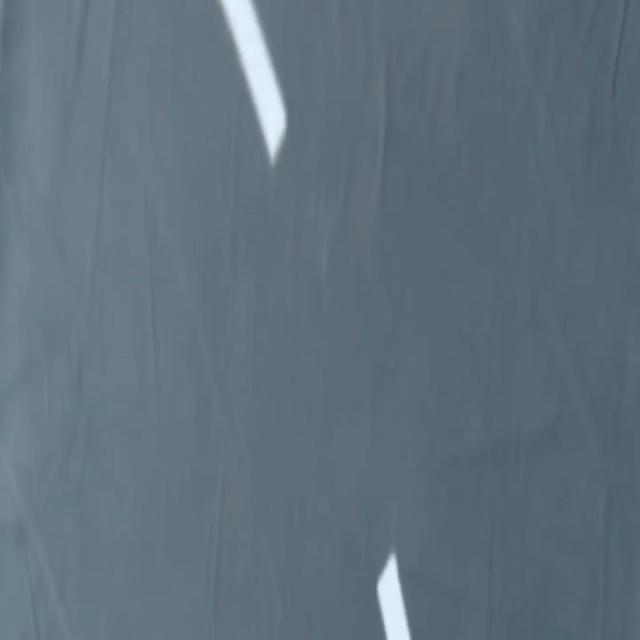center: (218, 0, 285, 165), (376, 551, 411, 639)
